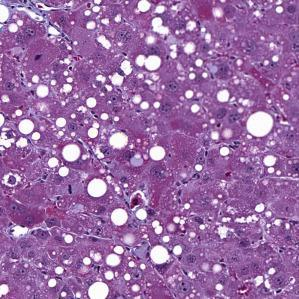fibrosis: (14, 3, 58, 29)
